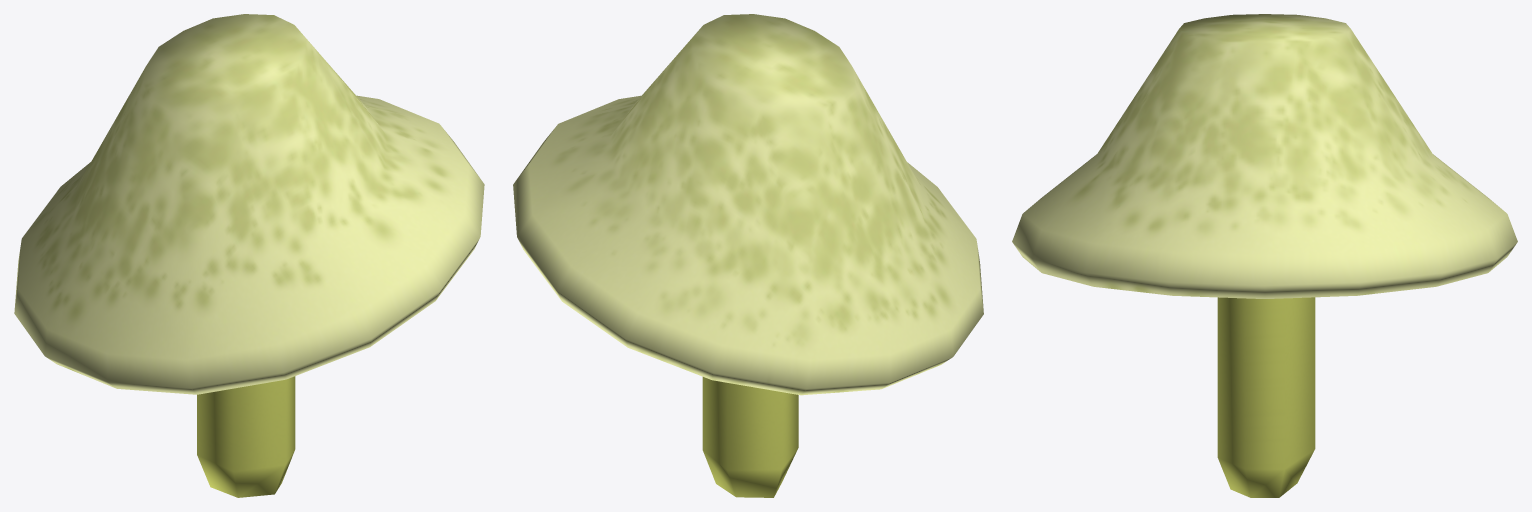
Rendered from Mushroom_2A.fbx.
3 views of the same model, side by side, from view 1: azimuth 30°, elevation 25°; view 2: azimuth 150°, elevation 25°; view 3: azimuth 270°, elevation 25° (orthographic). The views are drawn at different scales.
Parts seen in each view (by area): view 1: Mushroom_2A; view 2: Mushroom_2A; view 3: Mushroom_2A.
Part boxes in pixels (x1=…): Mushroom_2A: x1=14, y1=14, x2=484, y2=497; Mushroom_2A: x1=513, y1=14, x2=983, y2=497; Mushroom_2A: x1=1012, y1=14, x2=1517, y2=497.
Bounding box in the file's own units: 3.58 × 3.75 × 3.71.
Materials: 1 (1 with a texture image).
